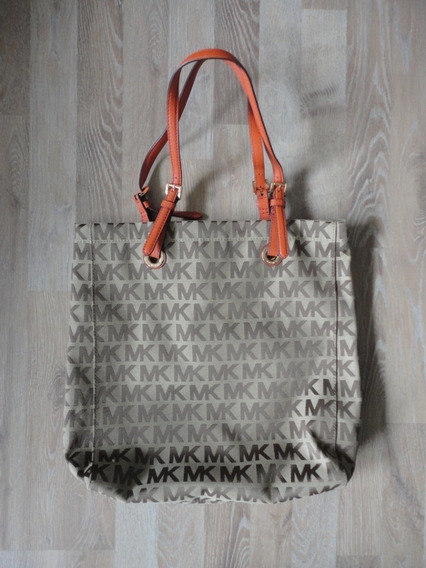cartera: (59, 48, 364, 502)
